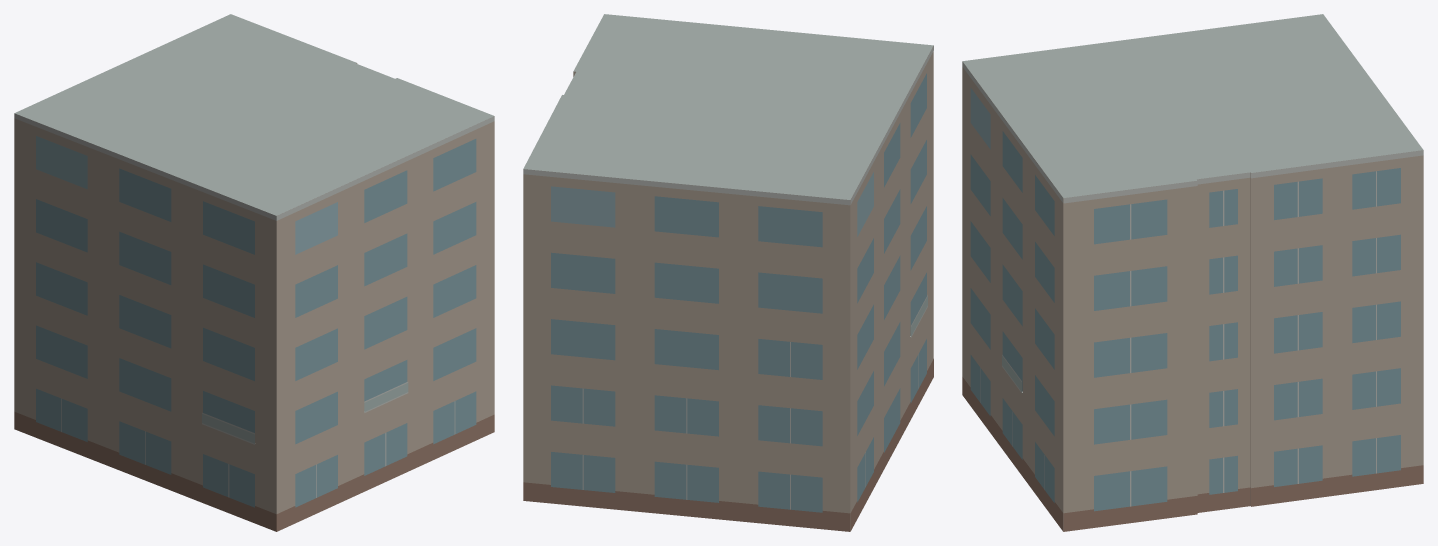
File: survey-upis-32619138.glb
The picture shows the model from 3 angles, left to right: view 1: azimuth 30°, elevation 25°; view 2: azimuth 150°, elevation 25°; view 3: azimuth 270°, elevation 25°; orthographic projection. The views are drawn at different scales.
Visible parts, largest first — view 1: survey-upis-32619138.tmp; view 2: survey-upis-32619138.tmp; view 3: survey-upis-32619138.tmp.
Boxes of the visible parts, box(x1,y1,x2,y2) form: survey-upis-32619138.tmp: box(14, 14, 494, 531); survey-upis-32619138.tmp: box(523, 14, 933, 531); survey-upis-32619138.tmp: box(962, 14, 1423, 531).
Bounding box in the file's own units: 18.24 × 15.4 × 19.31.
